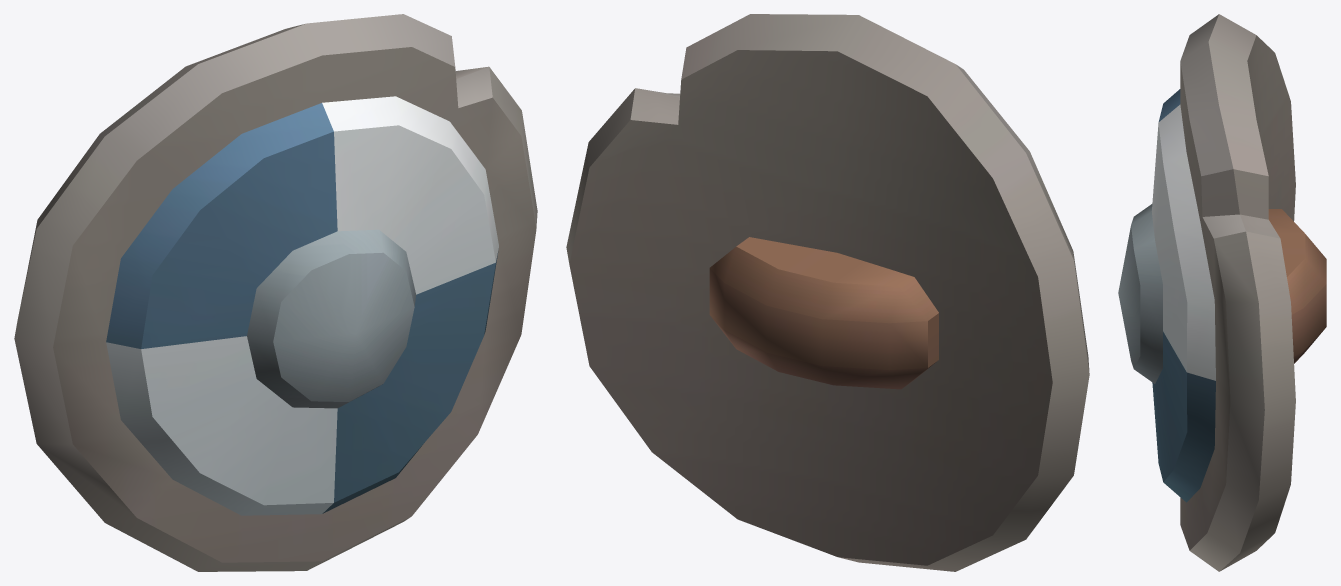
The model's file is kaykit-shield-round-barbarian.glb.
3 renders of one model, left to right at view 1: azimuth 30°, elevation 25°; view 2: azimuth 150°, elevation 25°; view 3: azimuth 270°, elevation 25°, orthographic. The views are drawn at different scales.
Visible parts, largest first — view 1: shield_round_barbarian; view 2: shield_round_barbarian; view 3: shield_round_barbarian.
Boxes of the visible parts, x1,y1,x2,y2 form: shield_round_barbarian: (14, 14, 537, 571); shield_round_barbarian: (566, 14, 1089, 571); shield_round_barbarian: (1118, 14, 1326, 571).
Bounding box in the file's own units: 0.8826 × 0.8826 × 0.332.
1 material, 1 textured.
